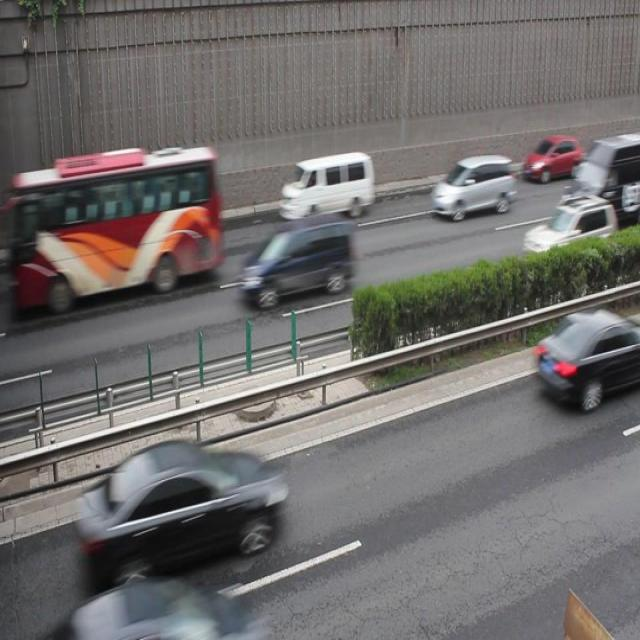car: (82, 438, 283, 578), (531, 309, 640, 412), (555, 134, 640, 226), (522, 196, 614, 269), (520, 132, 583, 182)
truck: (238, 213, 351, 307), (279, 152, 373, 220), (429, 155, 513, 220)
van: (21, 149, 218, 314)
